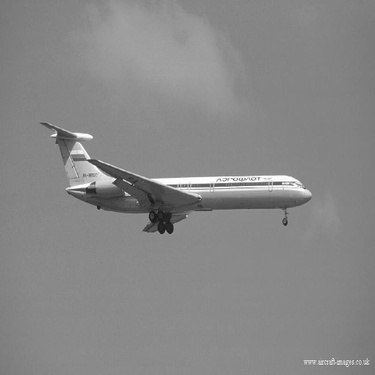airplane: (25, 91, 325, 239)
